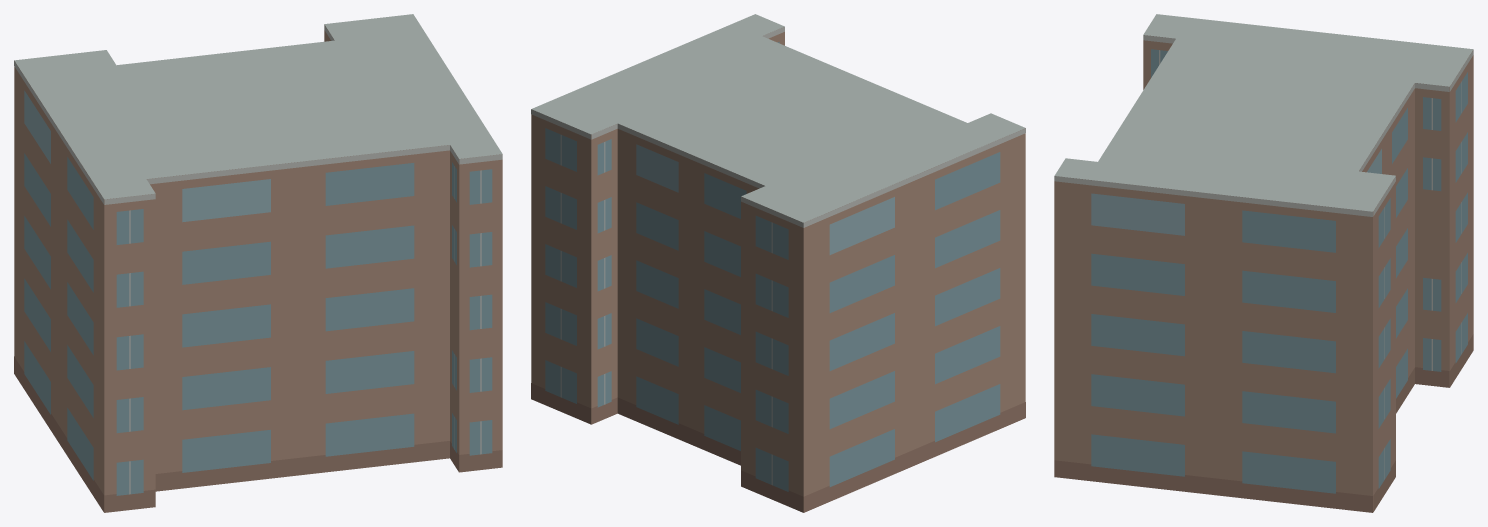
Rendered from survey-upis-32961738.glb.
3 views of the same model, side by side, from view 1: azimuth 30°, elevation 25°; view 2: azimuth 150°, elevation 25°; view 3: azimuth 270°, elevation 25° (orthographic). The views are drawn at different scales.
Parts seen in each view (by area): view 1: survey-upis-32961738.tmp; view 2: survey-upis-32961738.tmp; view 3: survey-upis-32961738.tmp.
Part boxes in pixels (bbox=[...]): survey-upis-32961738.tmp: bbox=[14, 14, 502, 512]; survey-upis-32961738.tmp: bbox=[531, 14, 1025, 512]; survey-upis-32961738.tmp: bbox=[1054, 14, 1473, 512].
Size of the model in its own units: 19.3 by 13.7 by 17.3.
